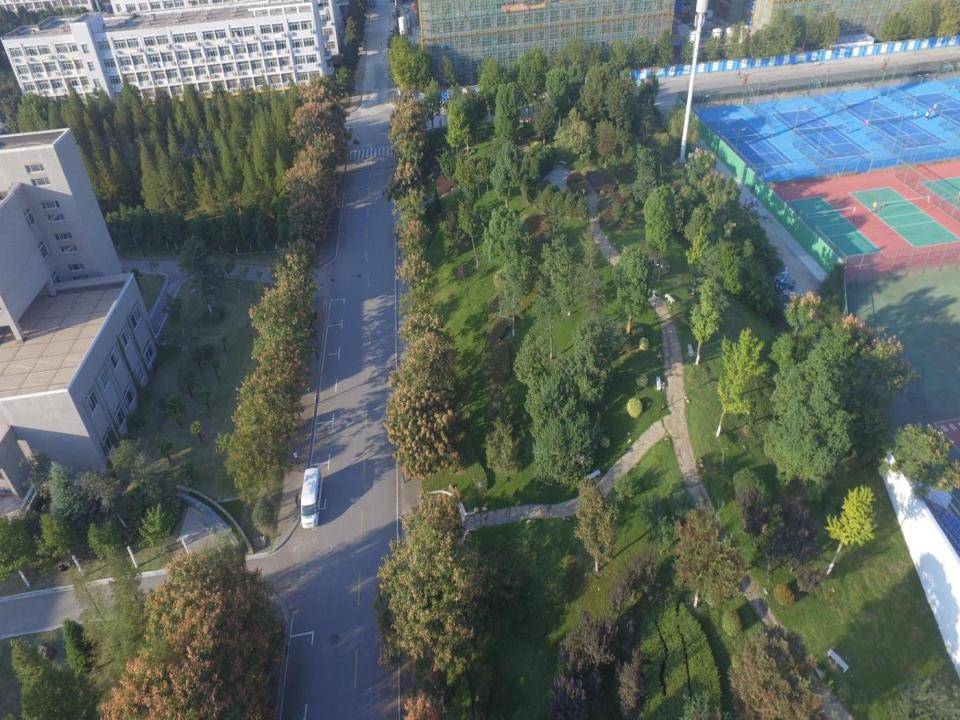car: (357, 39, 364, 51), (370, 0, 375, 7)
van: (299, 467, 323, 529), (390, 28, 394, 36)
